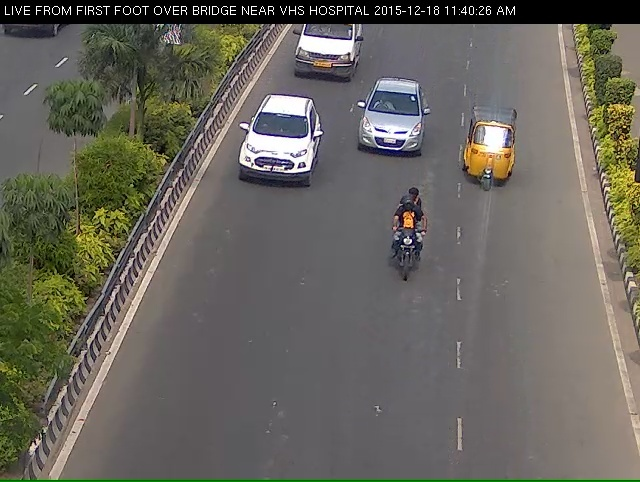Car: (230, 108, 315, 208), (359, 94, 427, 179), (463, 118, 521, 207), (286, 21, 355, 93)
Person: (388, 213, 429, 307)
